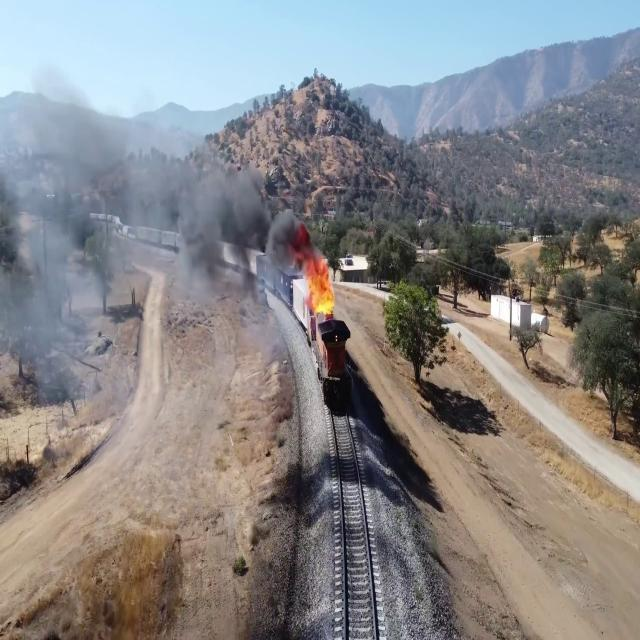Fire: (304, 254, 335, 311)
Smoke: (192, 159, 273, 257), (271, 214, 309, 266)
